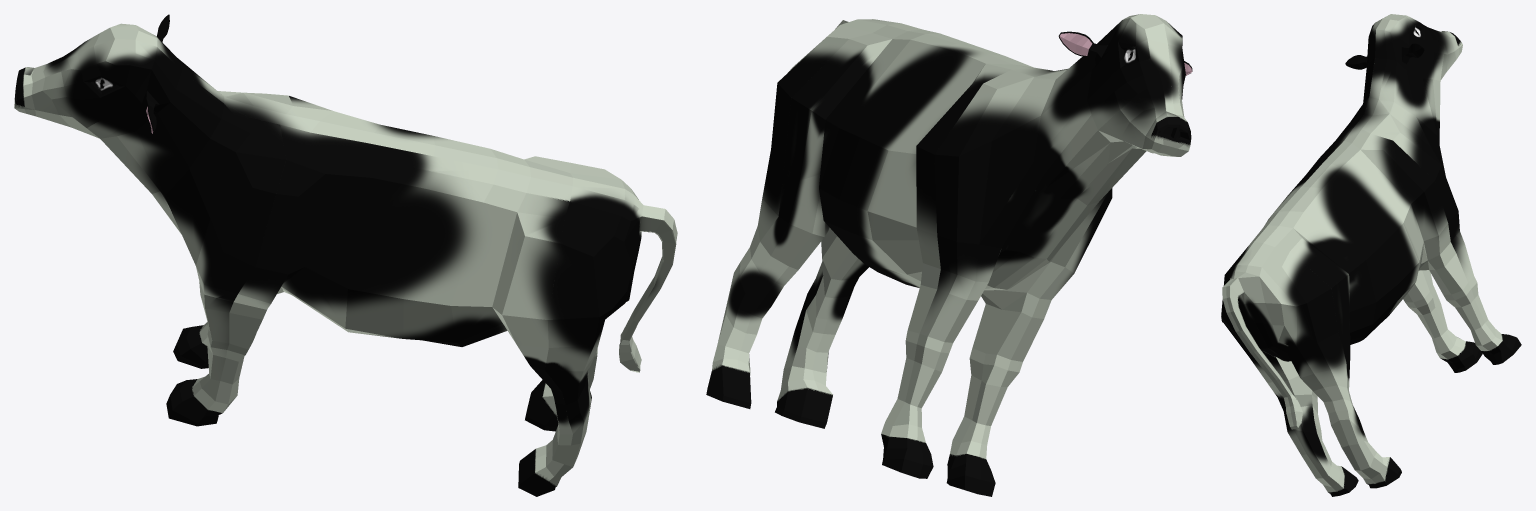
File: Cow_v4.glb
The picture shows the model from 3 angles, left to right: view 1: azimuth 30°, elevation 25°; view 2: azimuth 150°, elevation 25°; view 3: azimuth 270°, elevation 25°; orthographic projection. The views are drawn at different scales.
Visible parts, largest first — view 1: Cube.001; view 2: Cube.001; view 3: Cube.001.
Boxes of the visible parts, x1,y1,x2,y2 form: Cube.001: (14,14,677,496); Cube.001: (706,14,1192,496); Cube.001: (1221,14,1521,496).
Size of the model in its own units: 3.75 by 3.59 by 2.76.
Materials: 1 (1 with a texture image).
